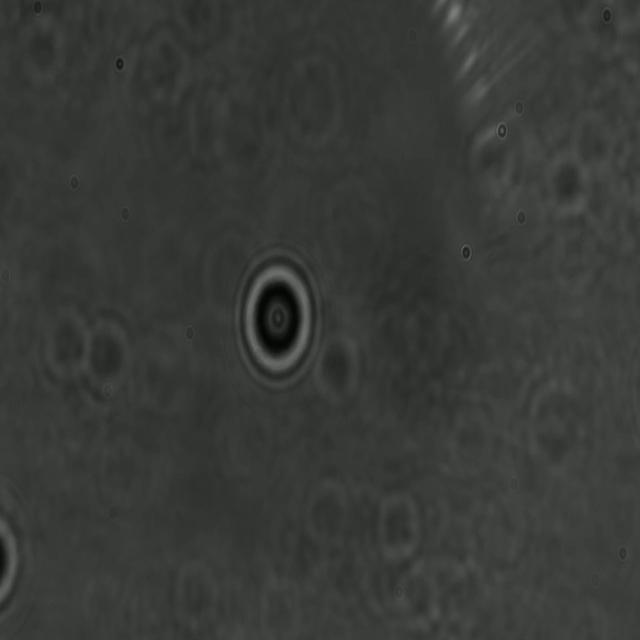LCELL: (232, 246, 325, 394)
